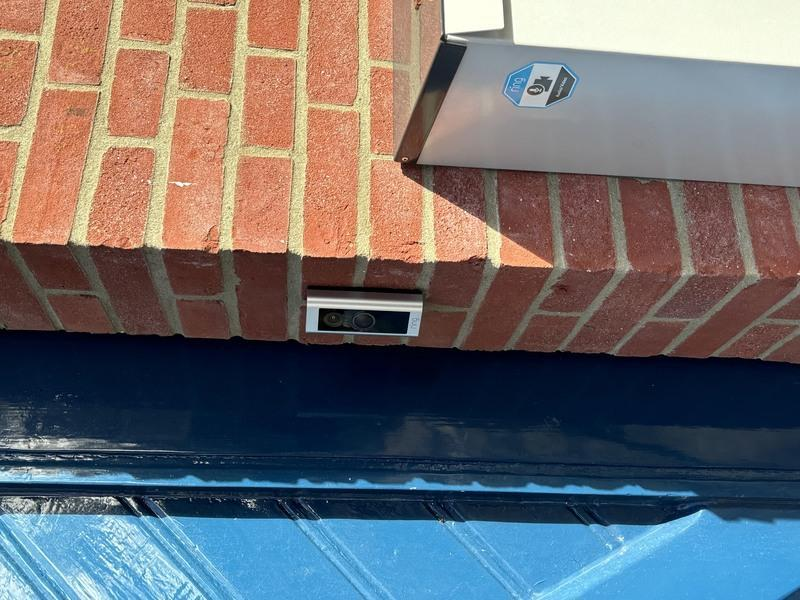doorbell: (257, 287, 315, 433)
